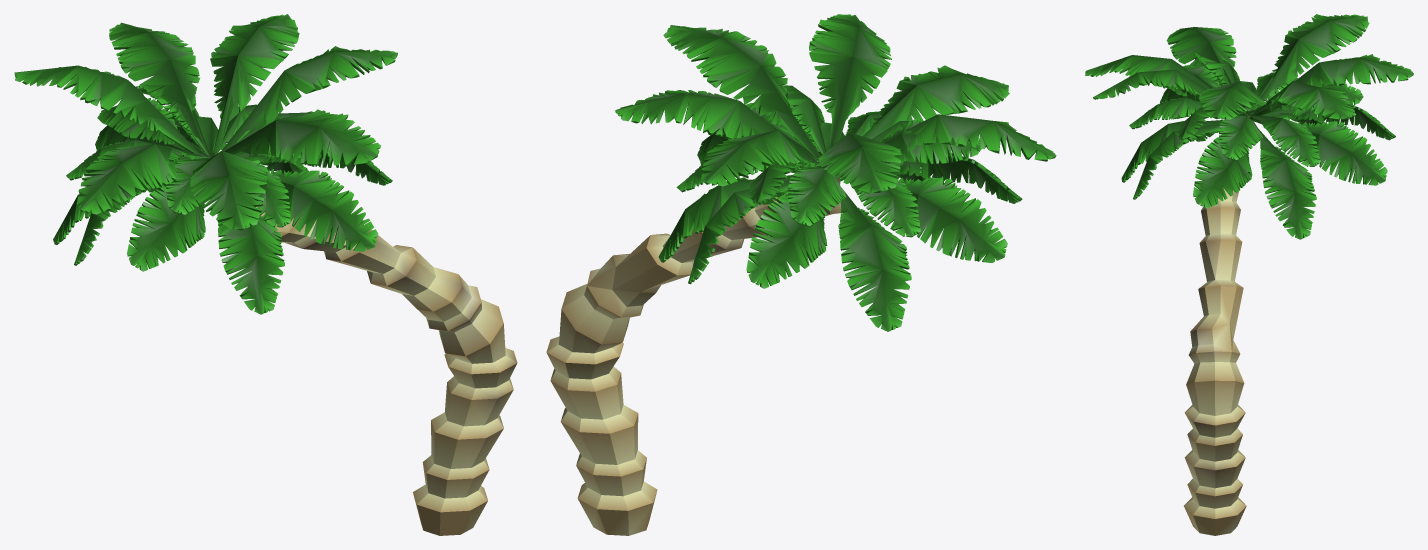
Rendered from rotated_palm.fbx.
The picture shows the model from 3 angles, left to right: view 1: azimuth 30°, elevation 25°; view 2: azimuth 150°, elevation 25°; view 3: azimuth 270°, elevation 25°; orthographic projection. The views are drawn at different scales.
Parts seen in each view (by area): view 1: crooked_palm; view 2: crooked_palm; view 3: crooked_palm.
Boxes of the visible parts, bbox=[...] form: crooked_palm: bbox=[14, 14, 517, 535]; crooked_palm: bbox=[546, 14, 1056, 535]; crooked_palm: bbox=[1085, 14, 1413, 535].
Bounding box in the file's own units: 8.31 × 6.43 × 8.57.
